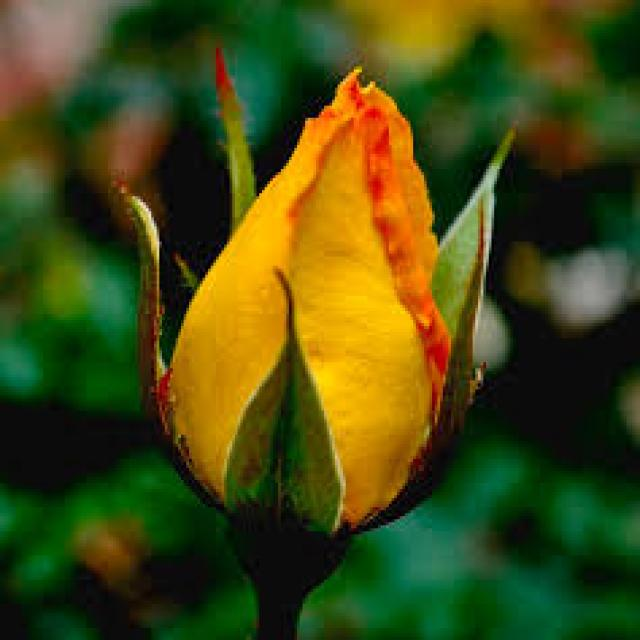Unbloomed: (160, 61, 457, 534)
